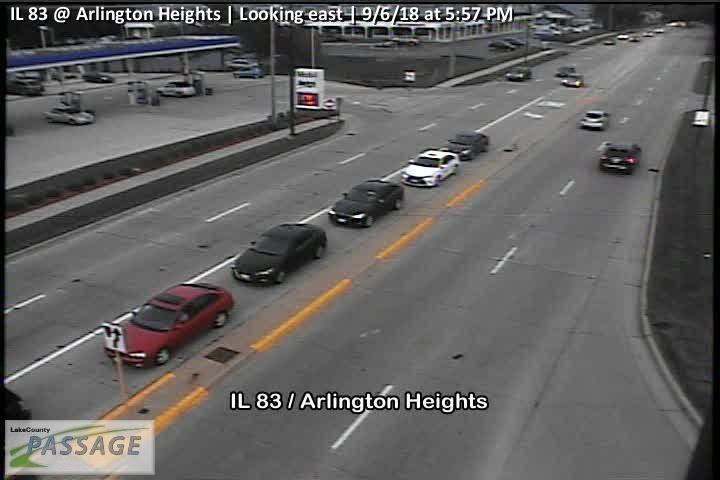Sedan: (104, 282, 235, 367), (234, 222, 328, 284), (329, 178, 405, 228), (403, 148, 461, 189), (600, 140, 642, 176), (446, 131, 490, 160), (44, 108, 95, 124), (157, 81, 195, 98), (579, 111, 611, 131), (505, 67, 531, 81), (560, 73, 584, 87)
